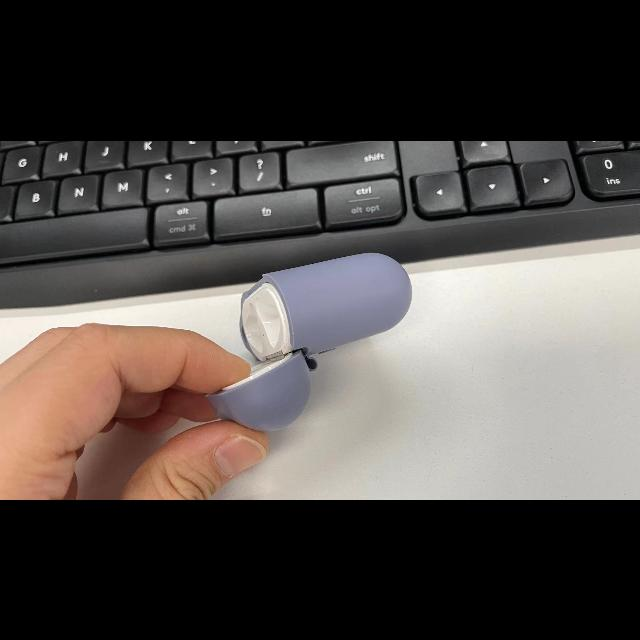airpods: (207, 252, 412, 430)
